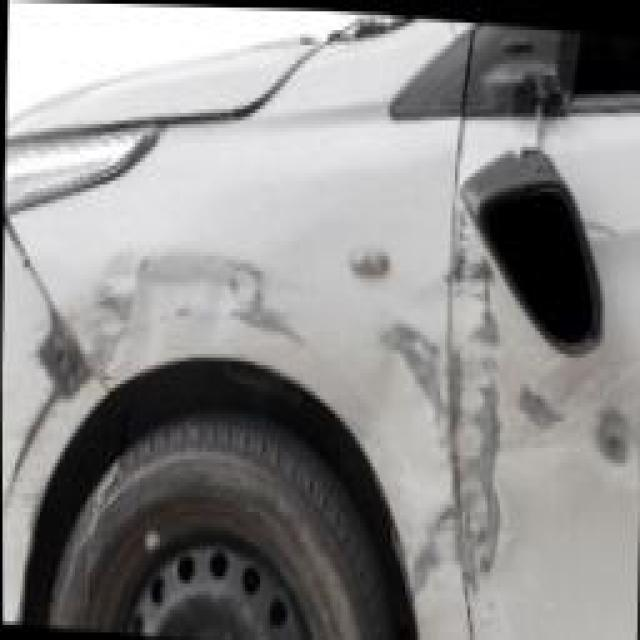Bumper: (8, 267, 81, 582)
Door: (452, 105, 640, 640)
Fender: (82, 90, 451, 431)
